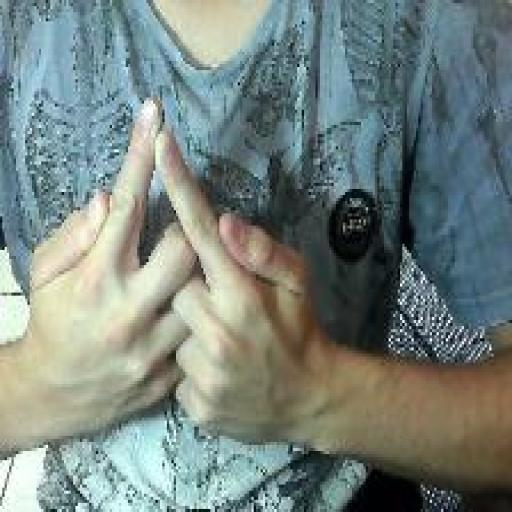Uma -horse-: (23, 90, 320, 449)
